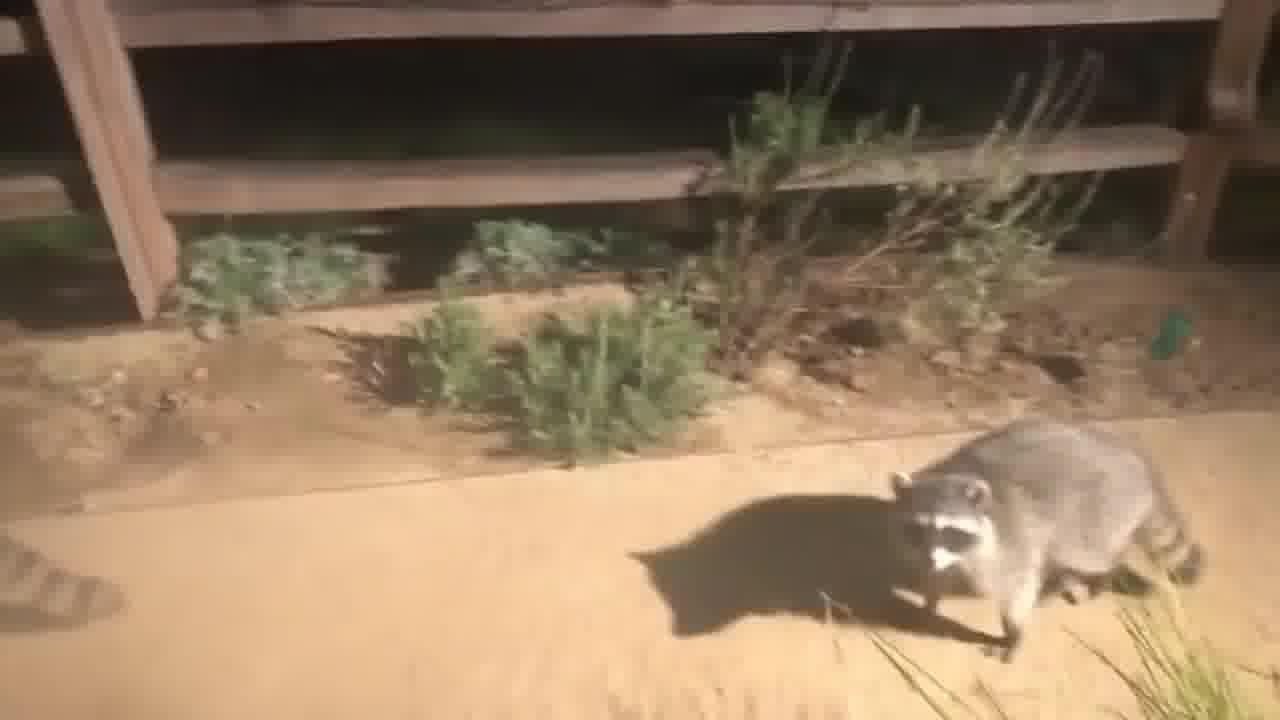raccoon: (868, 399, 1221, 669), (0, 521, 138, 644)
